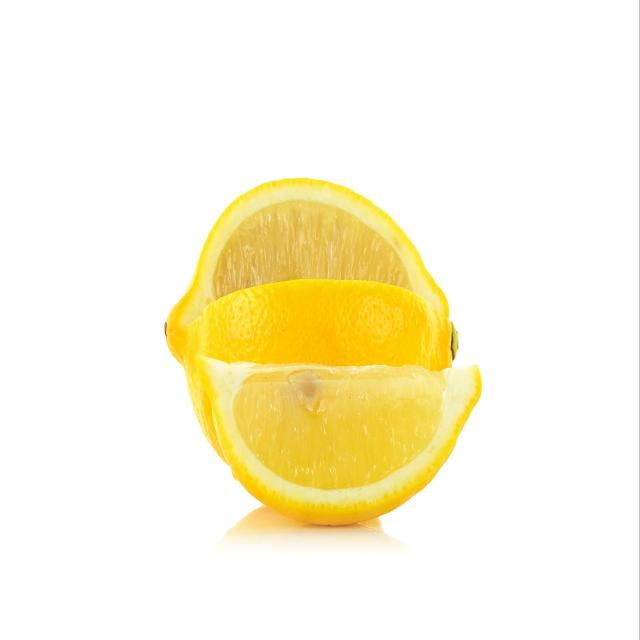lemon: (161, 169, 485, 532)
